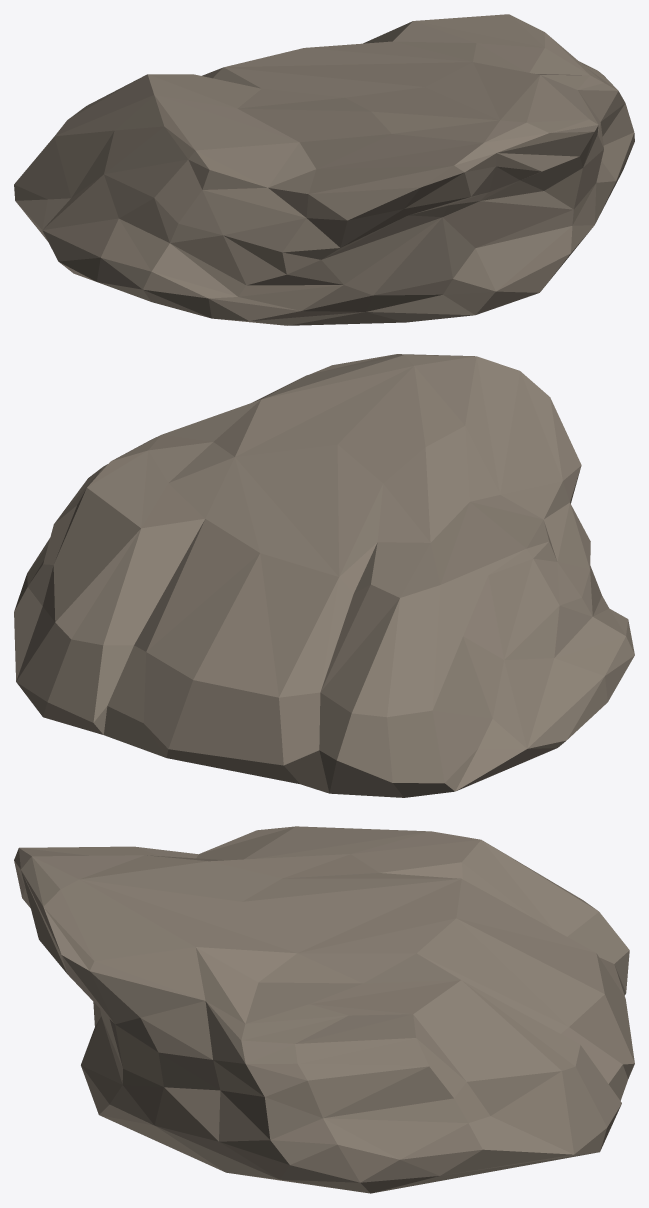
The model's file is SM_Env_Rock_06.fbx.
3 renders of one model, top to bottom at view 1: azimuth 30°, elevation 25°; view 2: azimuth 150°, elevation 25°; view 3: azimuth 270°, elevation 25°, orthographic. The views are drawn at different scales.
Visible parts, largest first — view 1: SM_Env_Rock_06; view 2: SM_Env_Rock_06; view 3: SM_Env_Rock_06.
Part boxes in pixels (<box>): SM_Env_Rock_06: <box>14,14,634,325</box>; SM_Env_Rock_06: <box>14,354,634,797</box>; SM_Env_Rock_06: <box>14,826,634,1193</box>.
Size of the model in its own units: 1073 by 398 by 997.
